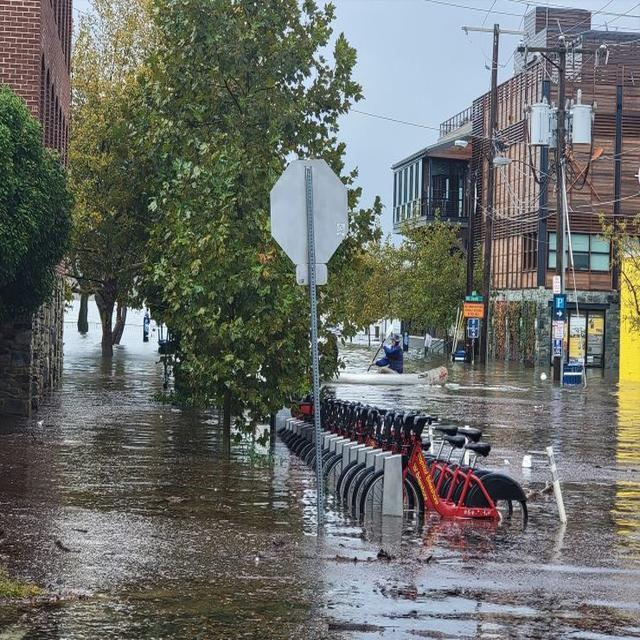Person-RiskLevel3: (356, 320, 411, 382)
